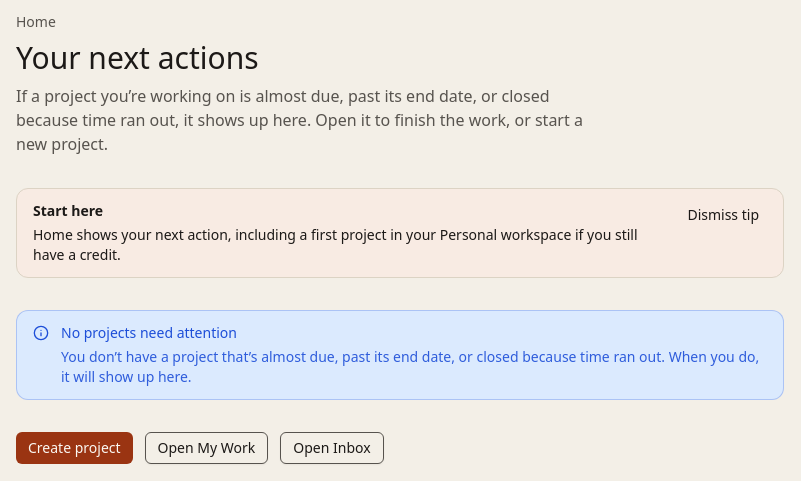
Test: HomePage › shows the home tip without replacing the create-project action
The image size is (801, 481).
Expected: the element "Start here" is shown, [16,188,784,278]
Expected: the text "No projects need attention" is shown, [60,322,237,342]
Click the button "Dismiss tip" at (723, 215), box [679,201,767,229]
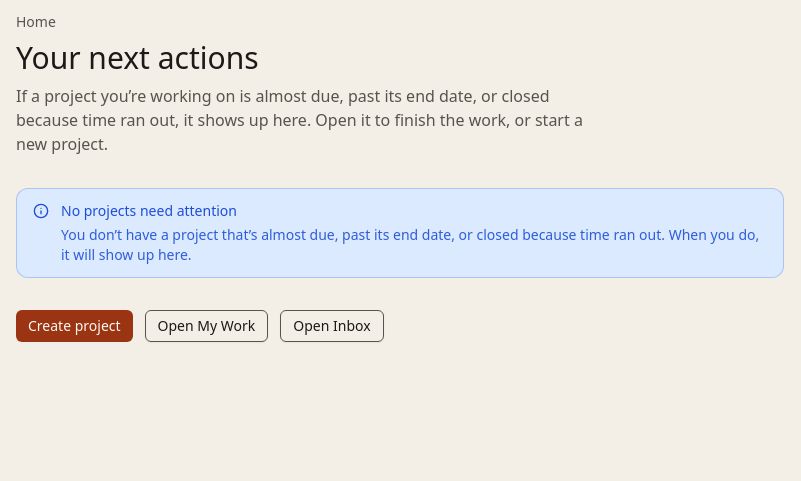
Expected: the link "Create project" is shown, [16,310,133,342]
Now the text "Start here" is gone
